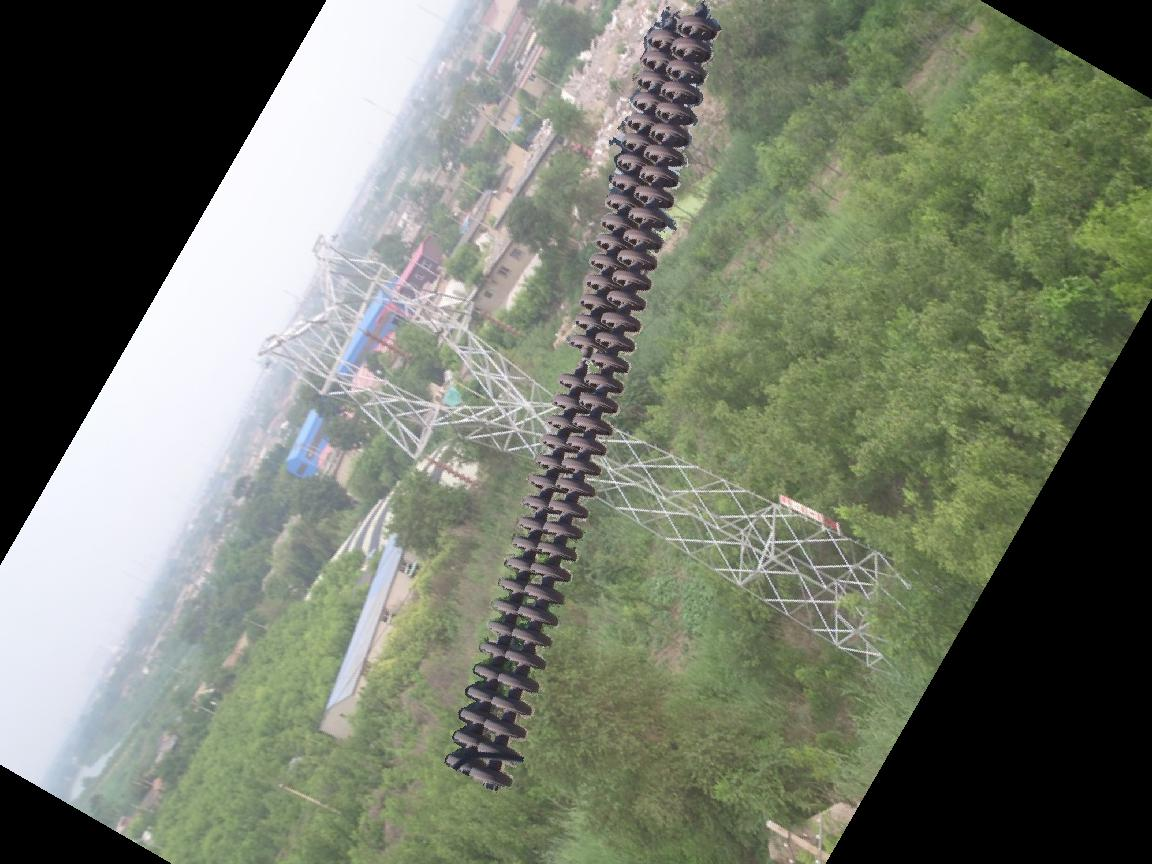insulator: (440, 5, 724, 797)
insulator_stringdrop: (554, 330, 602, 395)
